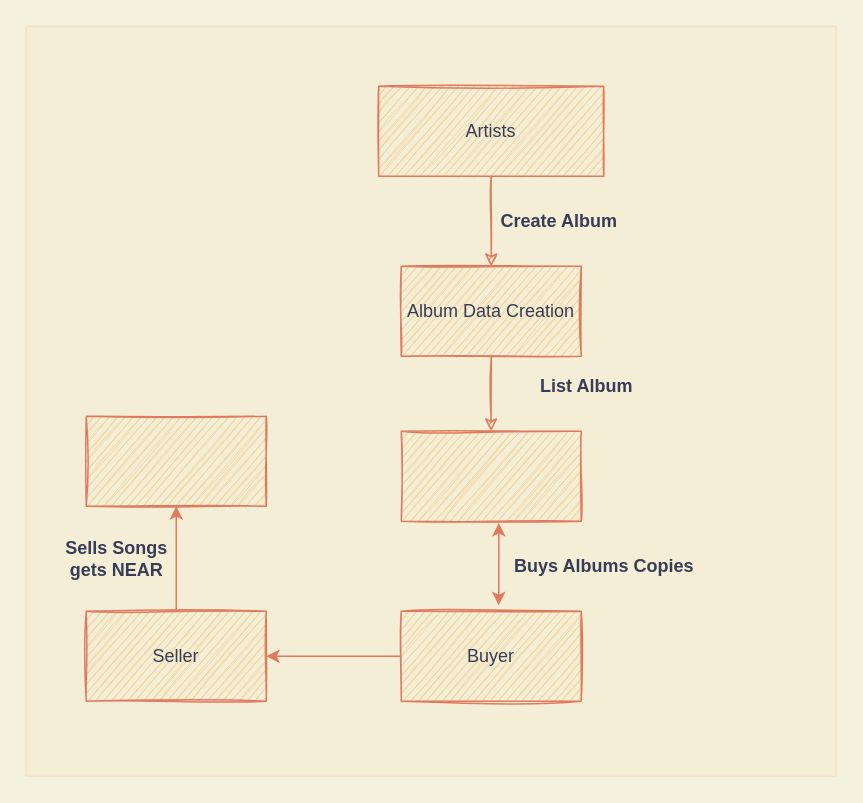
Some shapes in this 863 by 803 pixel diagram are drawn without their labels. Each missing label, with the centre of its shape:
"Album Market" goes at point 490,475.
"Songs Market" goes at point 175,460.
